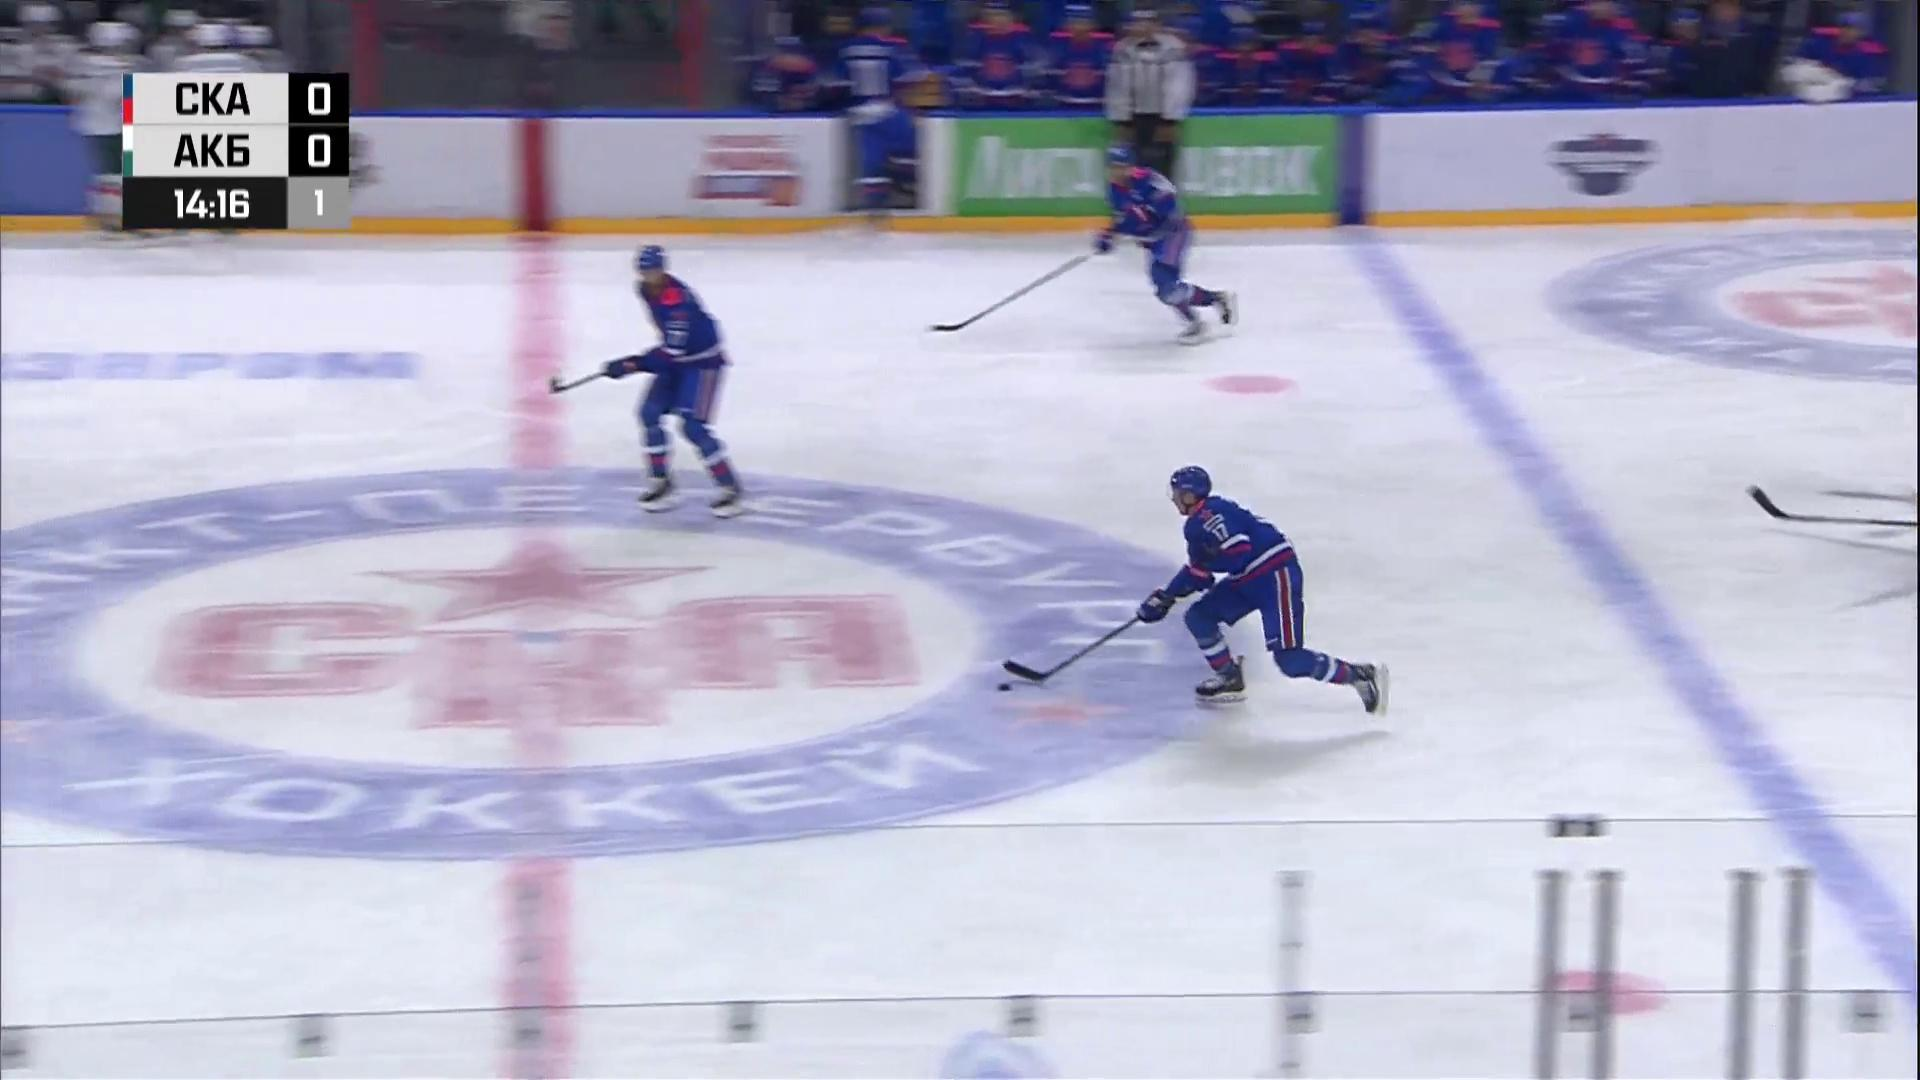ball: (997, 683, 1013, 692)
